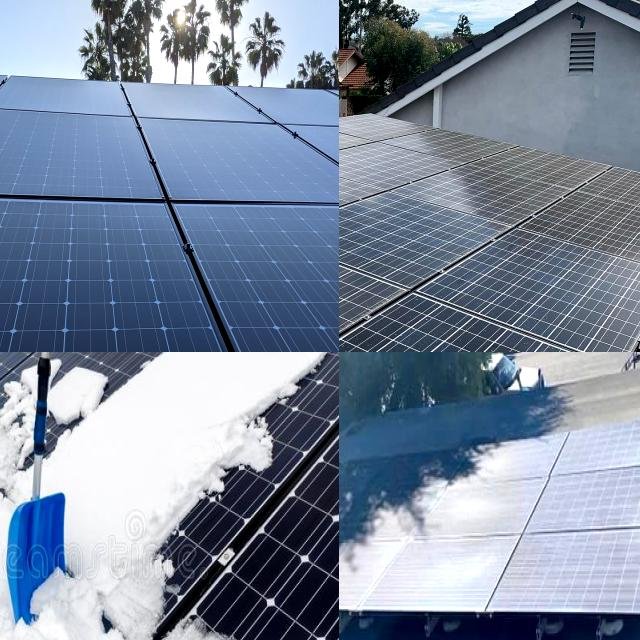crack: (0, 109, 187, 227), (135, 114, 339, 216), (162, 199, 339, 313), (220, 267, 339, 352), (0, 325, 42, 352), (0, 327, 40, 352)
dust: (520, 536, 640, 607), (402, 543, 481, 600), (553, 476, 640, 519), (450, 488, 520, 533), (565, 428, 640, 460), (474, 446, 546, 474), (339, 568, 369, 594)
panel: (49, 443, 128, 558), (132, 371, 208, 473), (212, 352, 333, 415), (104, 551, 176, 640), (44, 353, 114, 426), (154, 584, 233, 640), (0, 393, 35, 476), (0, 352, 35, 409)
